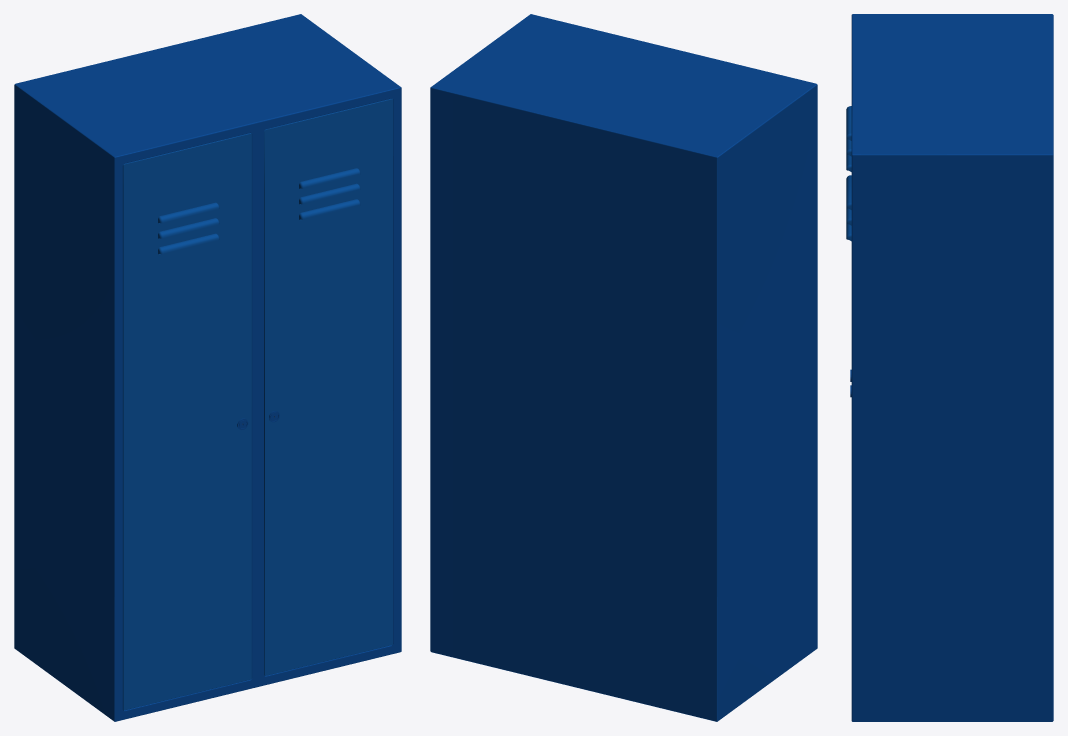
File: SM_Locker_Doors_2Side_Closed_Blue.fbx
3 renders of one model, left to right at view 1: azimuth 30°, elevation 25°; view 2: azimuth 150°, elevation 25°; view 3: azimuth 270°, elevation 25°, orthographic.
Visible parts, largest first — view 1: SM_Locker_Doors_2Side_Closed_Blue; view 2: SM_Locker_Doors_2Side_Closed_Blue; view 3: SM_Locker_Doors_2Side_Closed_Blue.
Boxes of the visible parts, x1,y1,x2,y2 form: SM_Locker_Doors_2Side_Closed_Blue: (14, 14, 401, 721); SM_Locker_Doors_2Side_Closed_Blue: (430, 14, 817, 721); SM_Locker_Doors_2Side_Closed_Blue: (846, 14, 1053, 721).
Bounding box in the file's own units: 115 × 215 × 71.27.
